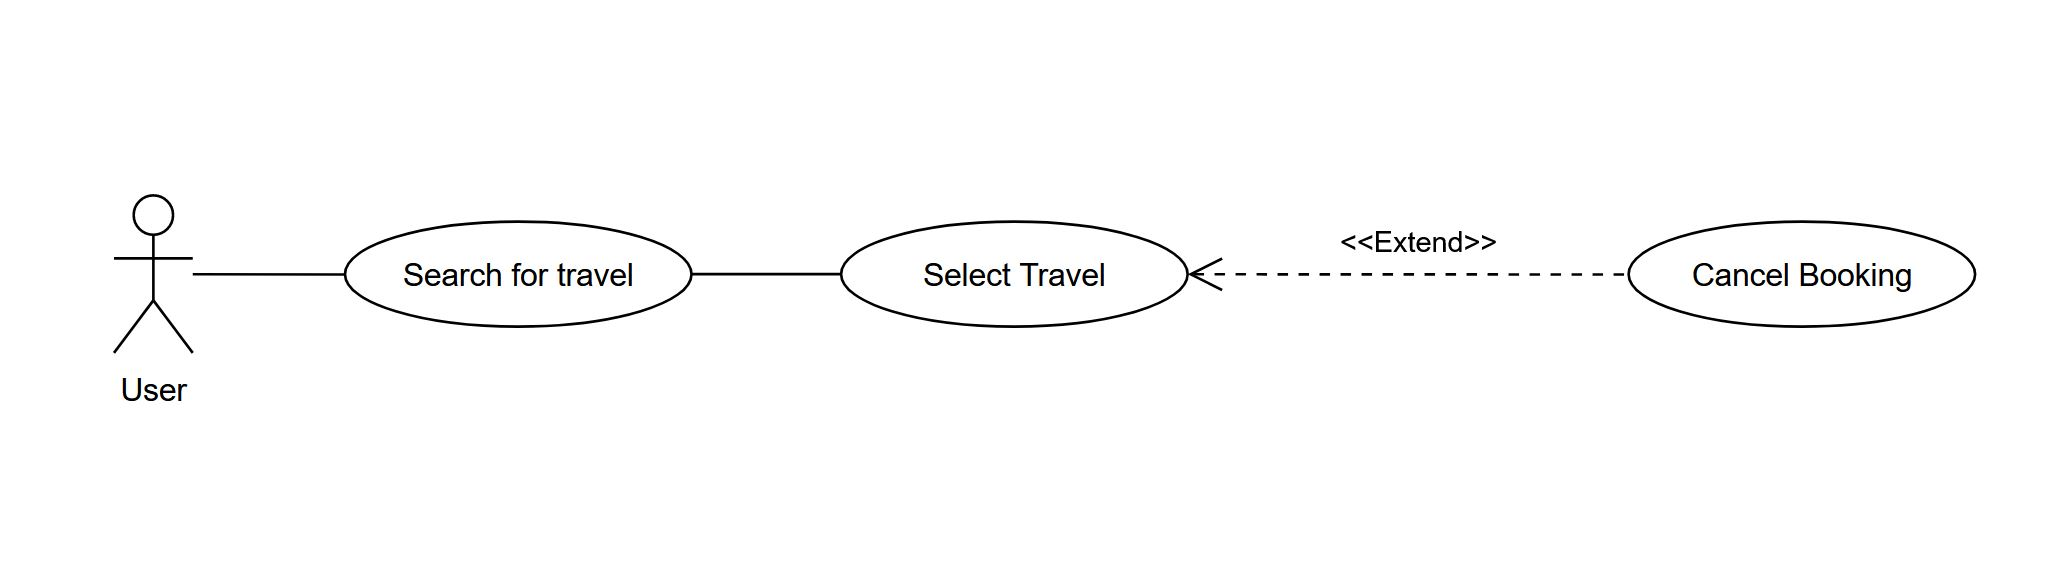actor: (114, 193, 198, 364)
association: (1190, 253, 1627, 293), (191, 254, 340, 293), (690, 258, 837, 295)
text: (396, 246, 643, 299), (1684, 253, 1918, 300), (916, 251, 1120, 301), (1339, 218, 1505, 261), (113, 370, 198, 412)
use_case: (342, 217, 695, 330), (837, 218, 1190, 330), (1629, 218, 1976, 332)
